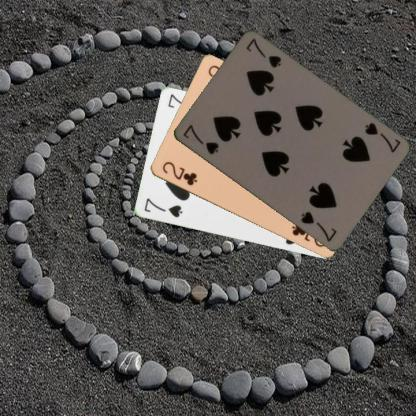2c: (160, 159, 198, 187)
7s: (180, 122, 220, 156), (362, 120, 402, 154), (141, 195, 184, 219)
